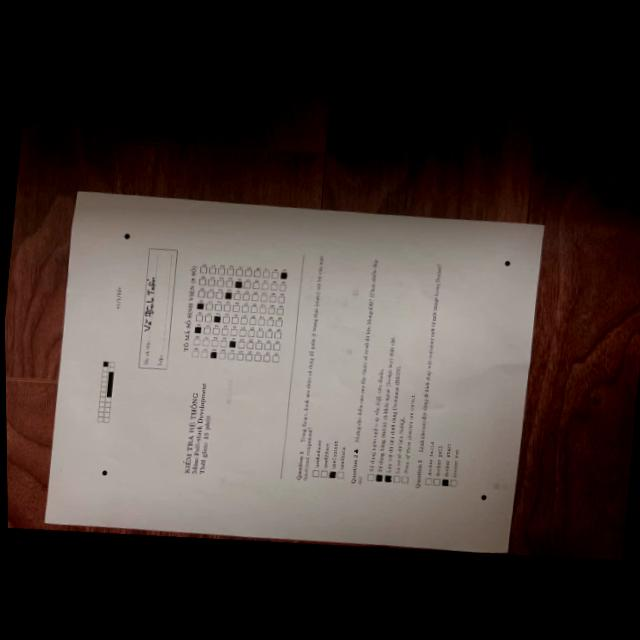Markers: (503, 259, 510, 267), (479, 494, 486, 502), (122, 232, 129, 239), (101, 469, 107, 476)
